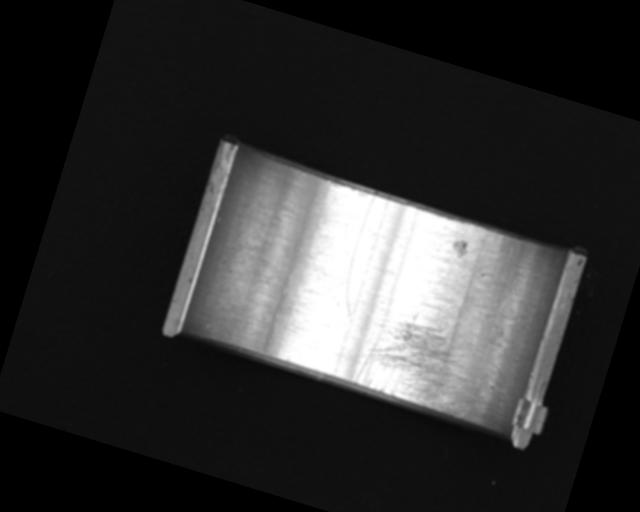bruise: (448, 236, 470, 259)
nick: (334, 191, 388, 318)
scratch: (348, 297, 485, 418)
